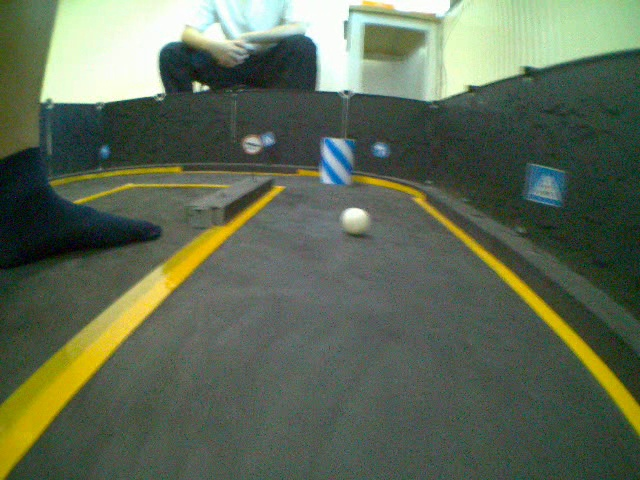ball: (340, 206, 371, 237)
bucket: (318, 135, 355, 188)
